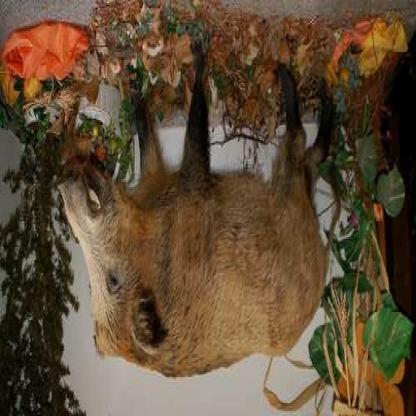boar: (41, 48, 339, 401)
